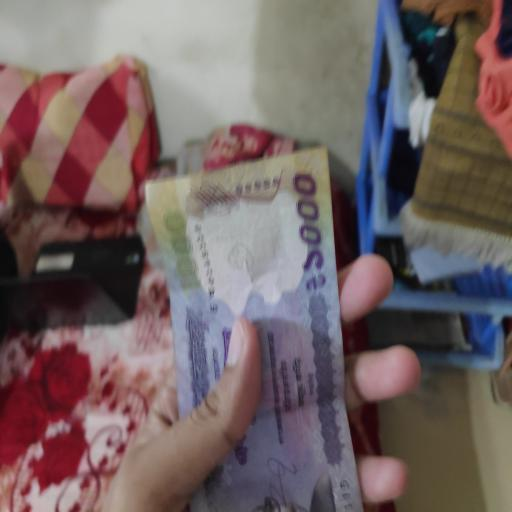1000taka: (144, 151, 363, 508)
